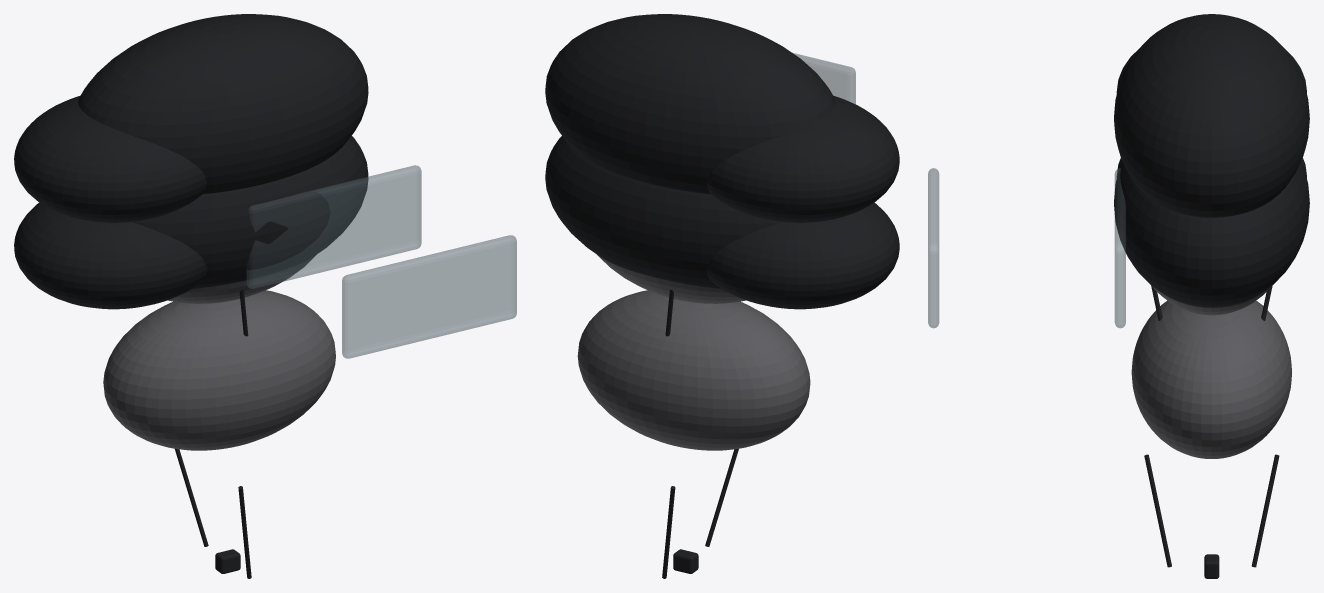
File: specialized-sworks-tt5-m.glb
3 renders of one model, left to right at view 1: azimuth 30°, elevation 25°; view 2: azimuth 150°, elevation 25°; view 3: azimuth 270°, elevation 25°, orthographic. The views are drawn at different scales.
Visible parts, largest first — view 1: specialized-sworks-tt5-m_SHELL_EXPLODED, specialized-sworks-tt5-m_AERO_HEADSOCK_EXPLODED, specialized-sworks-tt5-m_SHELL, specialized-sworks-tt5-m_SHOULDER_TAIL_EXPLODED, specialized-sworks-tt5-m_CLASS1_VISOR_EXPLODED, specialized-sworks-tt5-m_CLASS1_VISOR, specialized-sworks-tt5-m_SHOULDER_TAIL, specialized-sworks-tt5-m_AERO_HEADSOCK; view 2: specialized-sworks-tt5-m_SHELL_EXPLODED, specialized-sworks-tt5-m_AERO_HEADSOCK_EXPLODED, specialized-sworks-tt5-m_SHELL, specialized-sworks-tt5-m_SHOULDER_TAIL_EXPLODED, specialized-sworks-tt5-m_SHOULDER_TAIL, specialized-sworks-tt5-m_AERO_HEADSOCK, specialized-sworks-tt5-m_CLASS1_VISOR_EXPLODED, specialized-sworks-tt5-m_BUCKLE_EXPLODED, specialized-sworks-tt5-m_STRAP_L_EXPLODED, specialized-sworks-tt5-m_STRAP_R_EXPLODED; view 3: specialized-sworks-tt5-m_SHELL_EXPLODED, specialized-sworks-tt5-m_AERO_HEADSOCK_EXPLODED, specialized-sworks-tt5-m_SHELL, specialized-sworks-tt5-m_CLASS1_VISOR_EXPLODED, specialized-sworks-tt5-m_CLASS1_VISOR, specialized-sworks-tt5-m_AERO_HEADSOCK, specialized-sworks-tt5-m_STRAP_L_EXPLODED, specialized-sworks-tt5-m_STRAP_R_EXPLODED.
Part boxes in pixels (bbox=[...]): specialized-sworks-tt5-m_SHELL_EXPLODED: bbox=[78, 14, 368, 193]; specialized-sworks-tt5-m_AERO_HEADSOCK_EXPLODED: bbox=[103, 290, 335, 450]; specialized-sworks-tt5-m_SHELL: bbox=[132, 136, 368, 288]; specialized-sworks-tt5-m_SHOULDER_TAIL_EXPLODED: bbox=[14, 96, 206, 222]; specialized-sworks-tt5-m_CLASS1_VISOR_EXPLODED: bbox=[342, 235, 516, 358]; specialized-sworks-tt5-m_CLASS1_VISOR: bbox=[246, 165, 421, 288]; specialized-sworks-tt5-m_SHOULDER_TAIL: bbox=[14, 202, 207, 309]; specialized-sworks-tt5-m_AERO_HEADSOCK: bbox=[167, 255, 315, 303]; specialized-sworks-tt5-m_SHELL_EXPLODED: bbox=[545, 14, 835, 194]; specialized-sworks-tt5-m_AERO_HEADSOCK_EXPLODED: bbox=[577, 290, 810, 450]; specialized-sworks-tt5-m_SHELL: bbox=[545, 136, 781, 288]; specialized-sworks-tt5-m_SHOULDER_TAIL_EXPLODED: bbox=[706, 96, 899, 222]; specialized-sworks-tt5-m_SHOULDER_TAIL: bbox=[706, 202, 899, 309]; specialized-sworks-tt5-m_AERO_HEADSOCK: bbox=[597, 255, 745, 303]; specialized-sworks-tt5-m_CLASS1_VISOR_EXPLODED: bbox=[793, 53, 855, 104]; specialized-sworks-tt5-m_BUCKLE_EXPLODED: bbox=[673, 549, 698, 573]; specialized-sworks-tt5-m_STRAP_L_EXPLODED: bbox=[705, 448, 738, 546]; specialized-sworks-tt5-m_STRAP_R_EXPLODED: bbox=[662, 486, 675, 578]; specialized-sworks-tt5-m_SHELL_EXPLODED: bbox=[1114, 14, 1309, 217]; specialized-sworks-tt5-m_AERO_HEADSOCK_EXPLODED: bbox=[1131, 300, 1291, 458]; specialized-sworks-tt5-m_SHELL: bbox=[1114, 161, 1309, 307]; specialized-sworks-tt5-m_CLASS1_VISOR_EXPLODED: bbox=[928, 168, 939, 328]; specialized-sworks-tt5-m_CLASS1_VISOR: bbox=[1114, 168, 1125, 328]; specialized-sworks-tt5-m_AERO_HEADSOCK: bbox=[1152, 286, 1271, 315]; specialized-sworks-tt5-m_STRAP_L_EXPLODED: bbox=[1144, 454, 1171, 567]; specialized-sworks-tt5-m_STRAP_R_EXPLODED: bbox=[1251, 454, 1279, 567].
Bounding box in the file's own units: 0.422 × 0.63 × 0.409.
